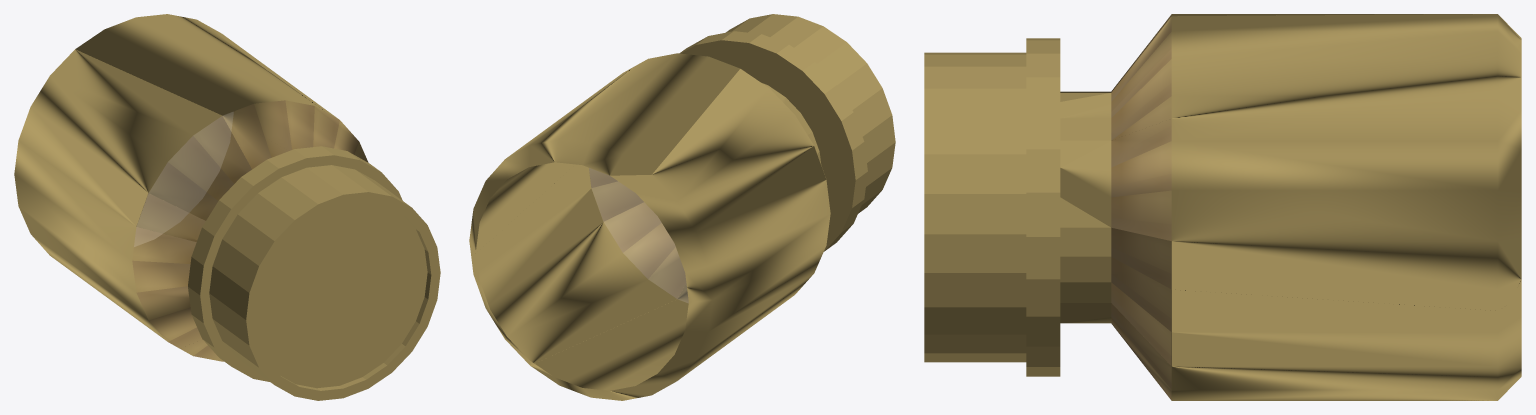
Rendered from model_align.obj.
3 views of the same model, side by side, from view 1: azimuth 30°, elevation 25°; view 2: azimuth 150°, elevation 25°; view 3: azimuth 270°, elevation 25° (orthographic). The views are drawn at different scales.
Size of the model in its own units: 0.0845 by 0.0845 by 0.1299.
